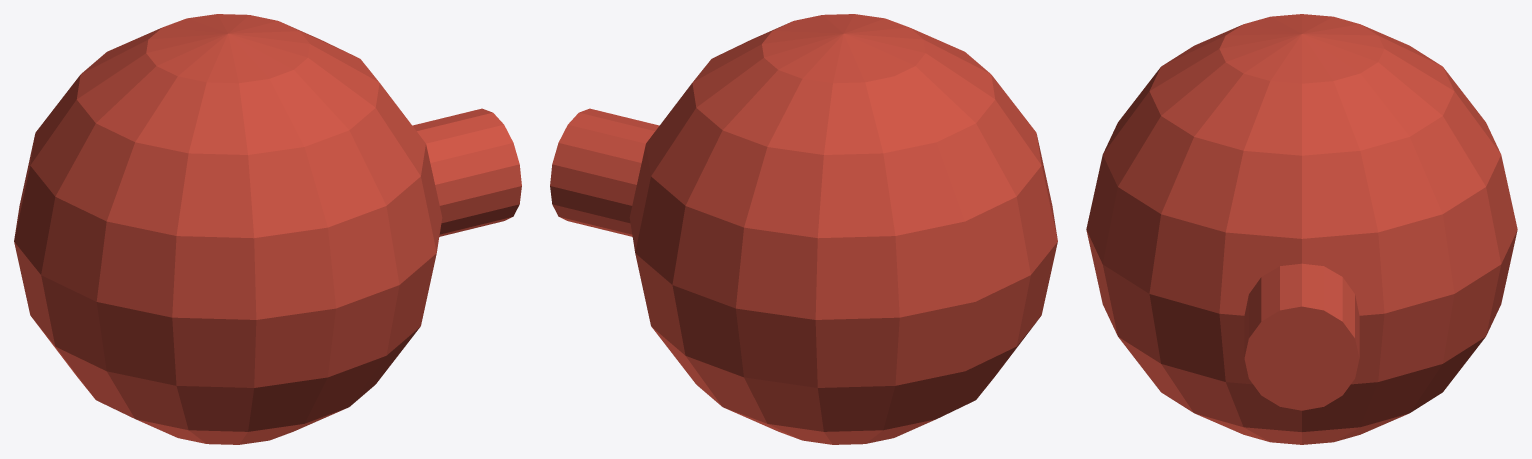
Rendered from E_BarnacleDrone.fbx.
The picture shows the model from 3 angles, left to right: view 1: azimuth 30°, elevation 25°; view 2: azimuth 150°, elevation 25°; view 3: azimuth 270°, elevation 25°; orthographic projection.
Parts seen in each view (by area): view 1: E_BarnacleDrone; view 2: E_BarnacleDrone; view 3: E_BarnacleDrone.
Part boxes in pixels (x1=…): E_BarnacleDrone: x1=14, y1=14, x2=521, y2=444; E_BarnacleDrone: x1=550, y1=14, x2=1057, y2=444; E_BarnacleDrone: x1=1086, y1=14, x2=1517, y2=444.
Size of the model in its own units: 0.725 by 0.6 by 0.6.
